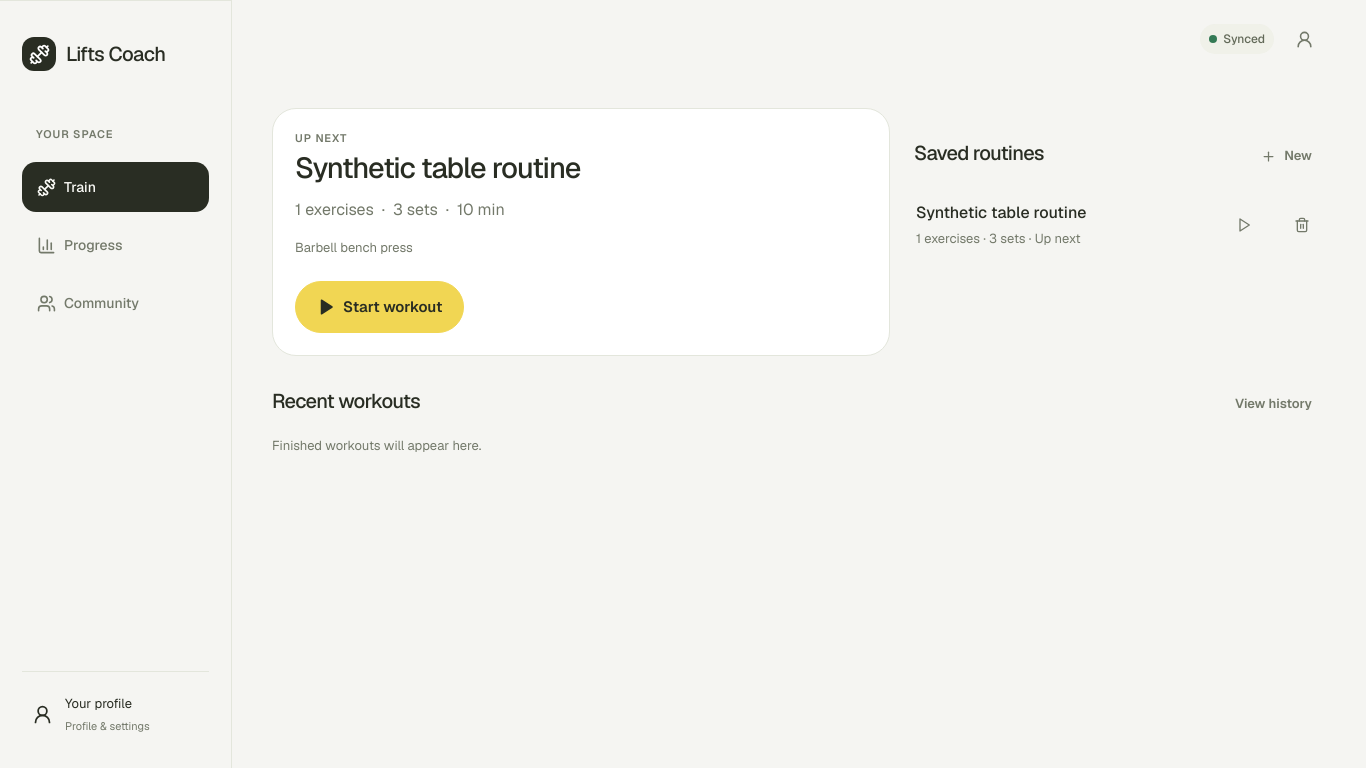
Test case: workout set table › hides the instruction section entirely when starting without instructions
Click the button "Start workout" at (380, 307), box [295, 281, 464, 333]
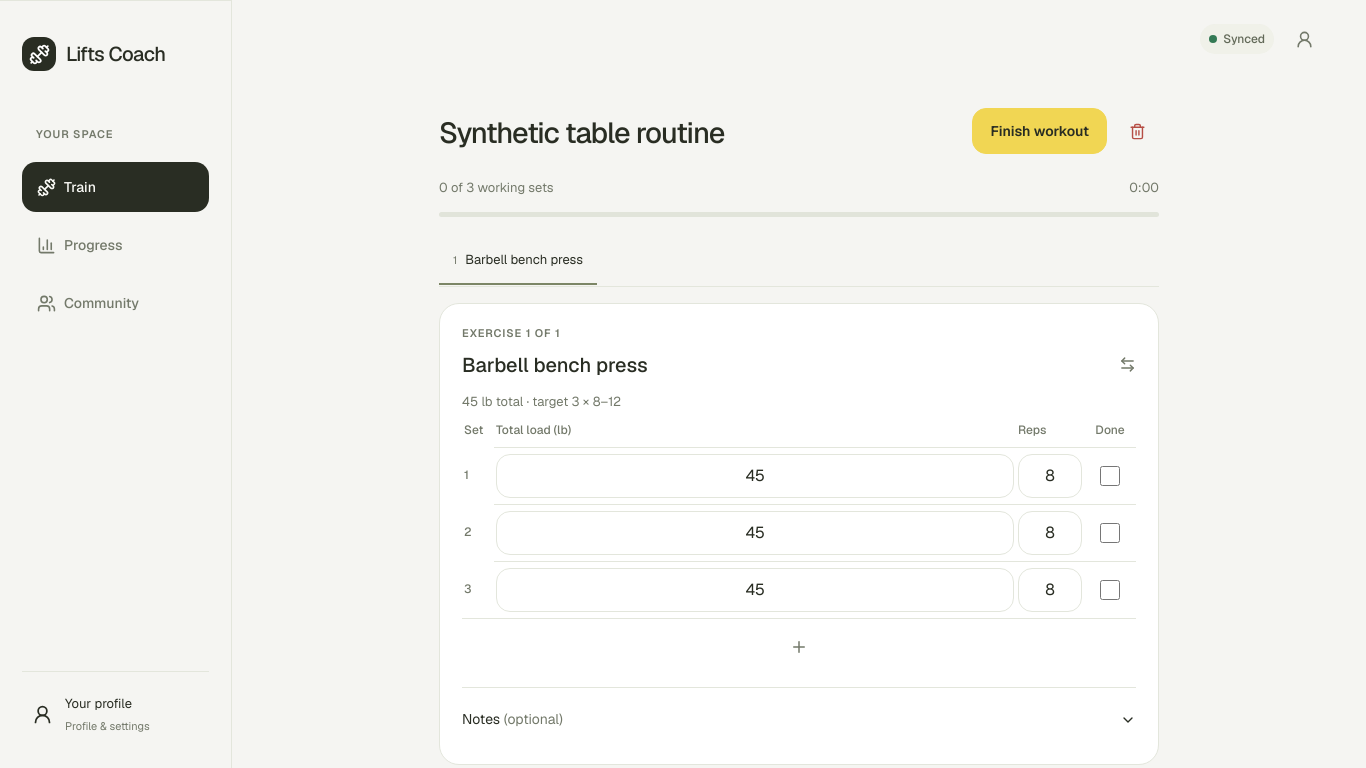
Now the table named "sets" is shown, box [462, 413, 1136, 675]
